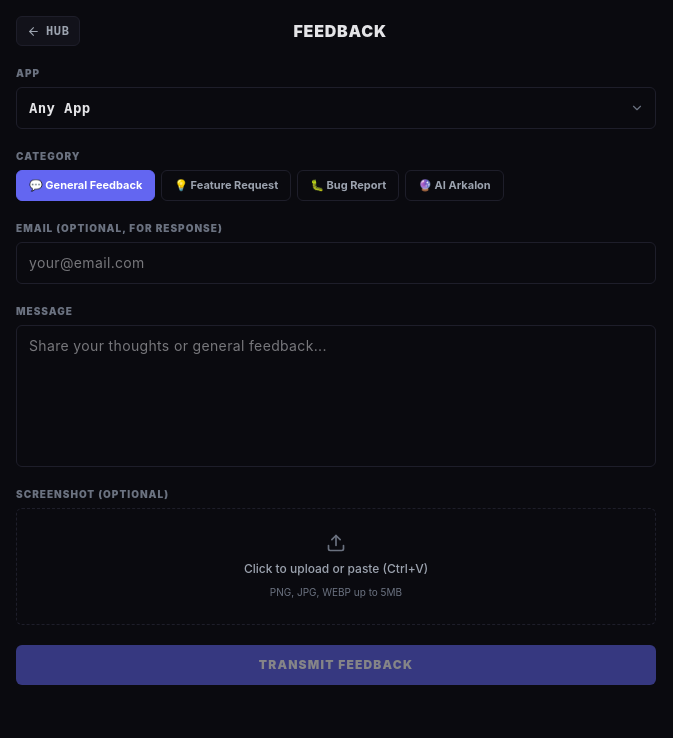
Test: FeedbackPage › hides AI Arkalon category when a specific app is selected
Select "RPS League" in the dropdown at (336, 108), box top-left (16, 87), bottom-right (656, 129)
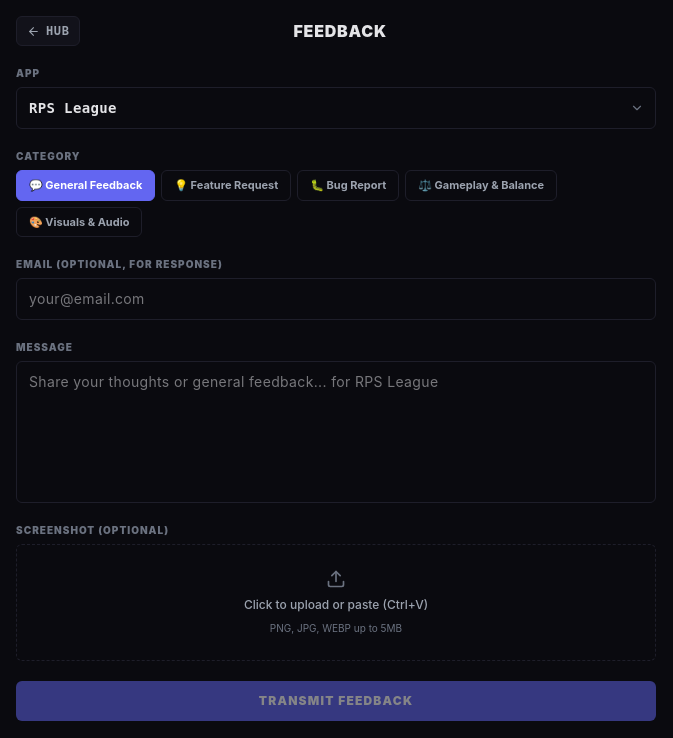
Check: the button "AI Arkalon" is gone
